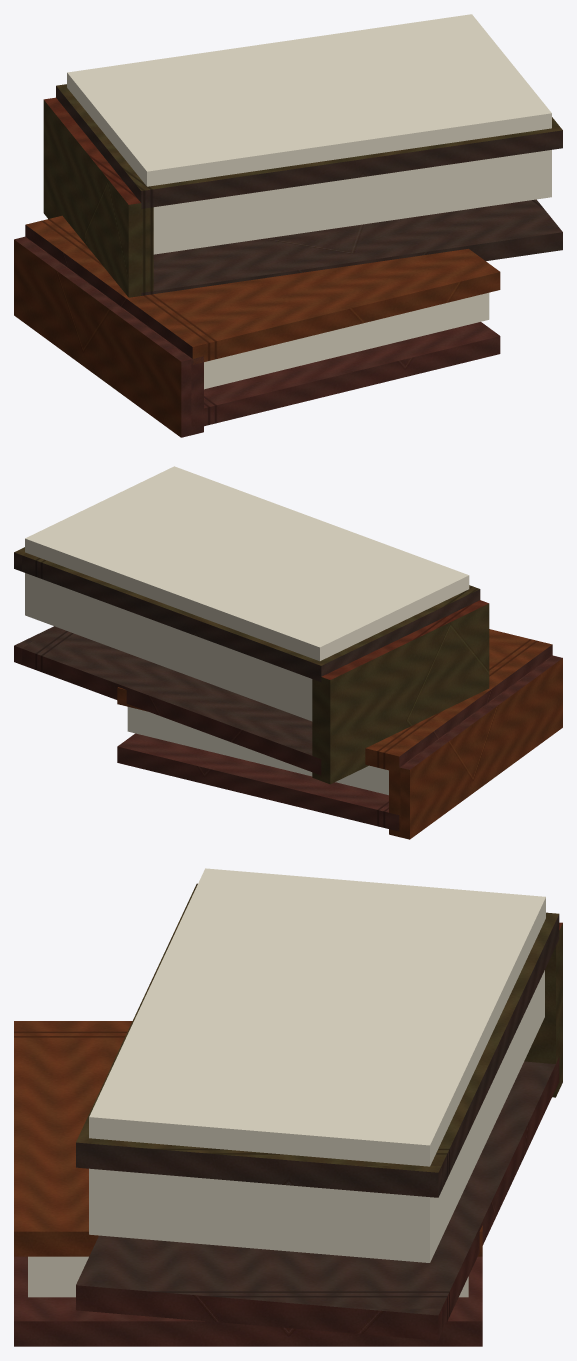
Rendered from pair.glb.
3 views of the same model, one above another, from view 1: azimuth 30°, elevation 25°; view 2: azimuth 150°, elevation 25°; view 3: azimuth 270°, elevation 25° (orthographic). The views are drawn at different scales.
Parts seen in each view (by area): view 1: pair; view 2: pair; view 3: pair.
Part boxes in pixels (x1=…): pair: x1=14, y1=14, x2=562, y2=437; pair: x1=14, y1=466, x2=562, y2=839; pair: x1=14, y1=868, x2=562, y2=1346.
Size of the model in its own units: 0.3143 by 0.1394 by 0.2379.
Materials: 2 (1 with a texture image).
